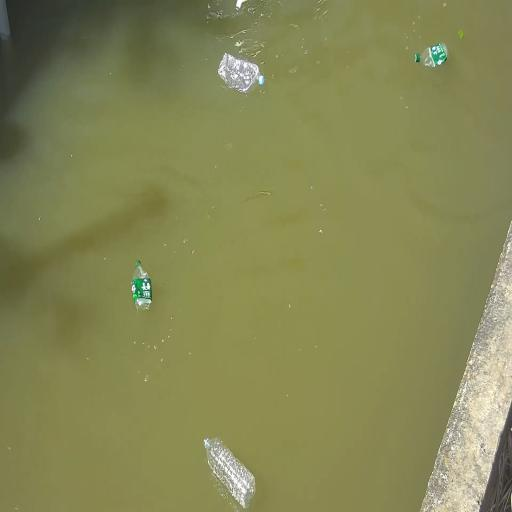plastic: (203, 434, 257, 509), (216, 51, 265, 96), (130, 259, 154, 313), (414, 41, 450, 69)
